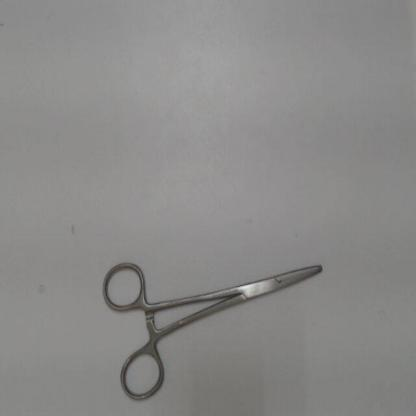Mayo Needle Holder: (94, 247, 336, 407)
